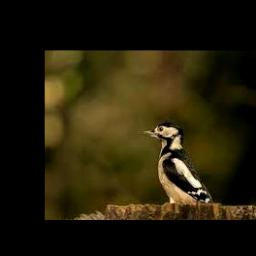Woodpecker: (142, 123, 213, 204)
